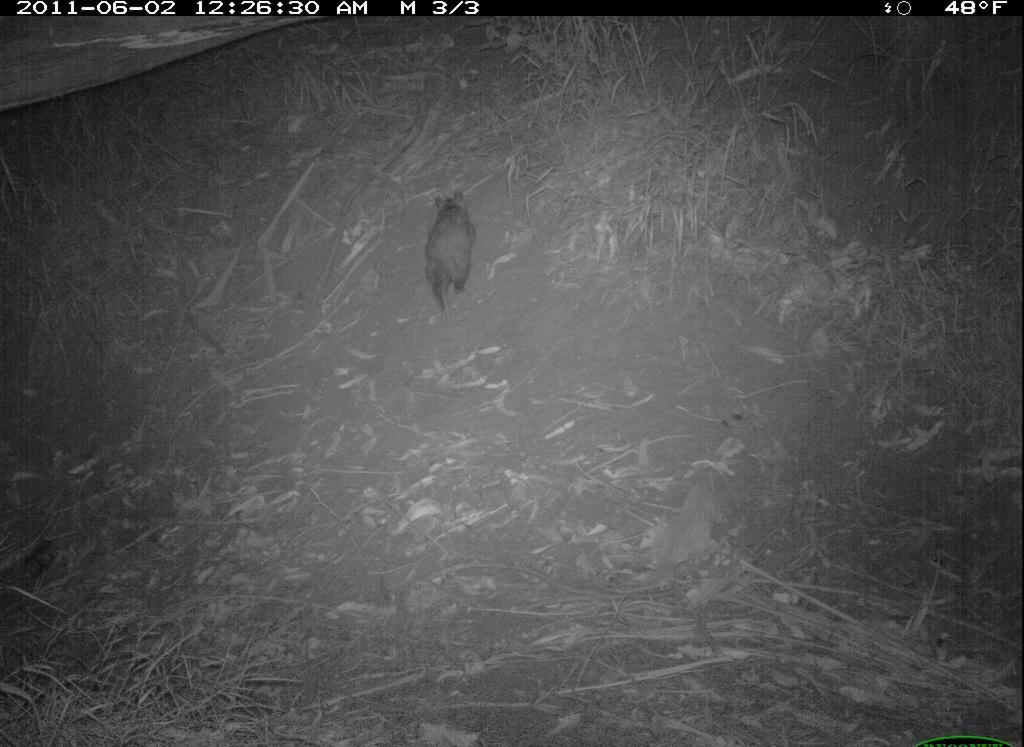opossum: (414, 177, 487, 349)
